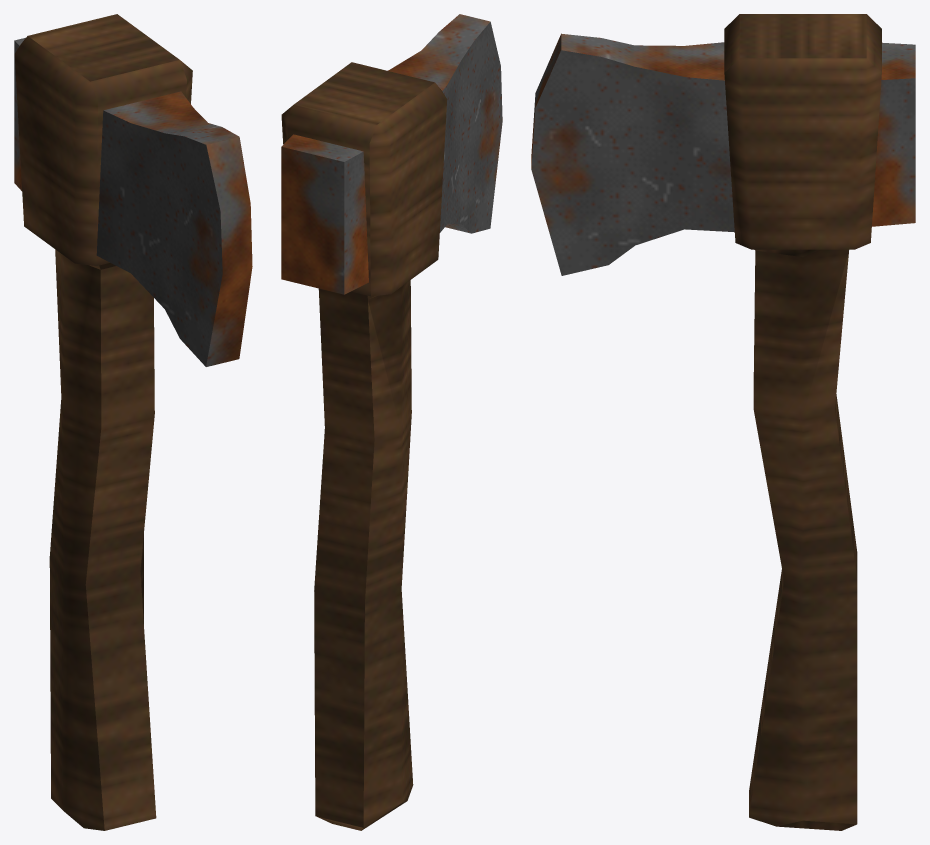
The model's file is Axe.fbx.
3 renders of one model, left to right at view 1: azimuth 30°, elevation 25°; view 2: azimuth 150°, elevation 25°; view 3: azimuth 270°, elevation 25°, orthographic. The views are drawn at different scales.
Visible parts, largest first — view 1: Axe.002, Axe.001; view 2: Axe.002, Axe.001; view 3: Axe.002, Axe.001.
Part boxes in pixels (x1,y1,x2,y2): Axe.002: (14, 14, 192, 830); Axe.001: (14, 37, 252, 366); Axe.002: (281, 62, 447, 830); Axe.001: (281, 14, 502, 294); Axe.002: (724, 14, 881, 830); Axe.001: (531, 33, 915, 275).
Size of the model in its own units: 0.0813 by 0.5165 by 0.2285.
Materials: 2 (2 with a texture image).
